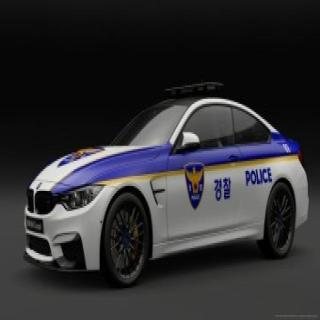Police_car: (23, 80, 310, 286)
